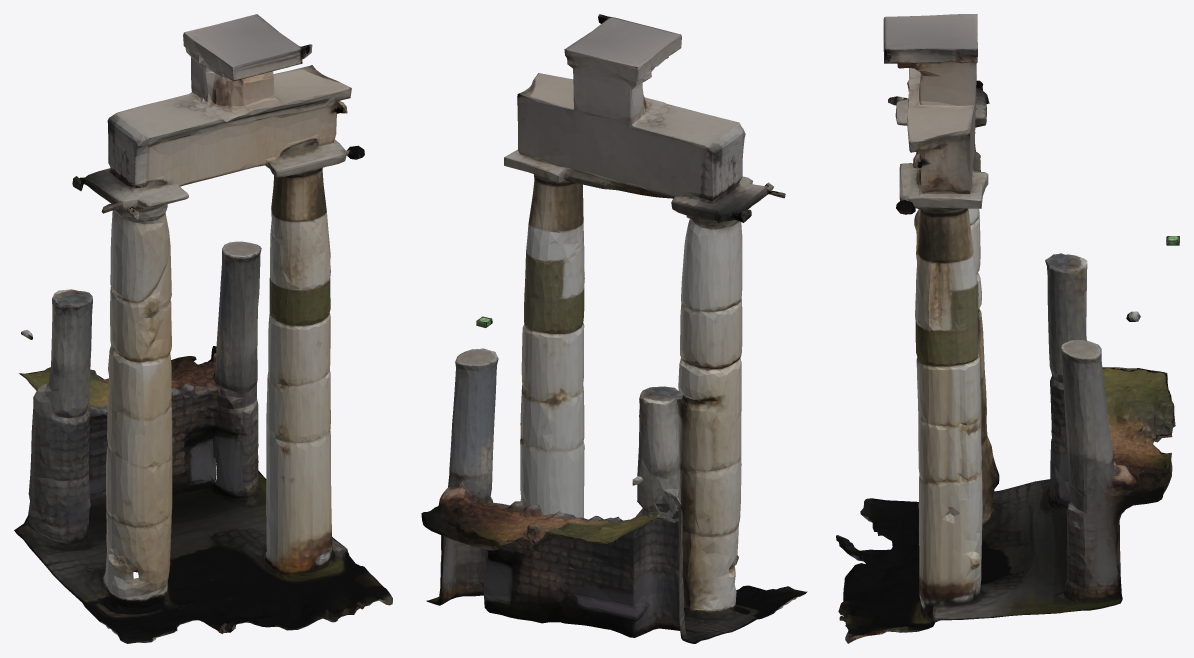
The model's file is prytaneion.fbx.
The picture shows the model from 3 angles, left to right: view 1: azimuth 30°, elevation 25°; view 2: azimuth 150°, elevation 25°; view 3: azimuth 270°, elevation 25°; orthographic projection.
Visible parts, largest first — view 1: world; view 2: world; view 3: world.
Boxes of the visible parts, left/top/right/bottom form: world: left=14, top=14, right=392, bottom=643; world: left=421, top=14, right=807, bottom=643; world: left=836, top=14, right=1179, bottom=643.
Size of the model in its own units: 48.65 by 99.48 by 55.26.
1 material, 1 textured.
